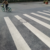zebra: (4, 11, 50, 50)
